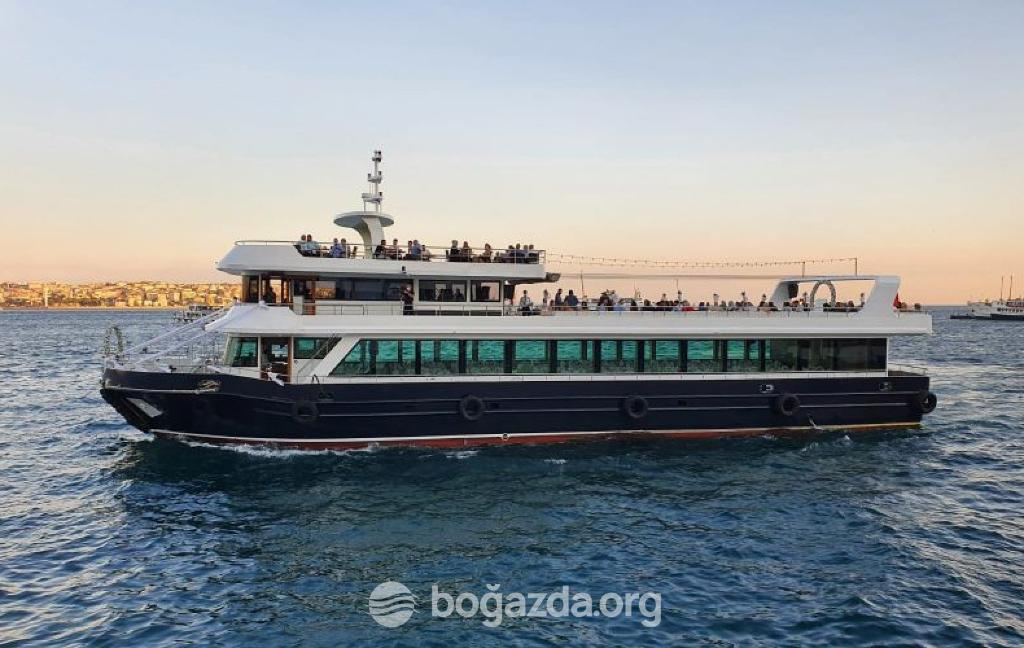PassengerShip: (97, 141, 945, 451)
